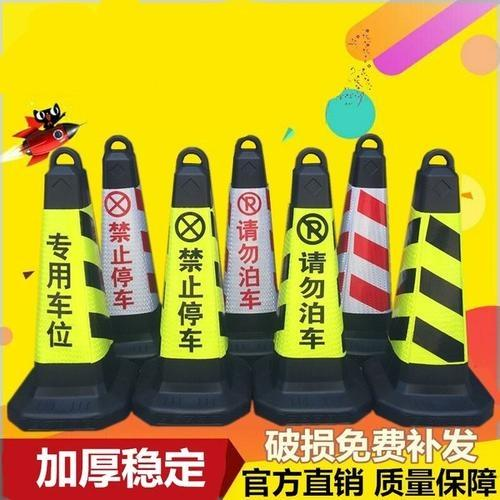cone_barrel: (8, 155, 127, 420), (372, 154, 489, 414), (135, 152, 243, 413), (259, 155, 366, 413), (91, 141, 162, 348), (273, 145, 345, 340), (214, 142, 283, 345), (331, 137, 395, 351)
